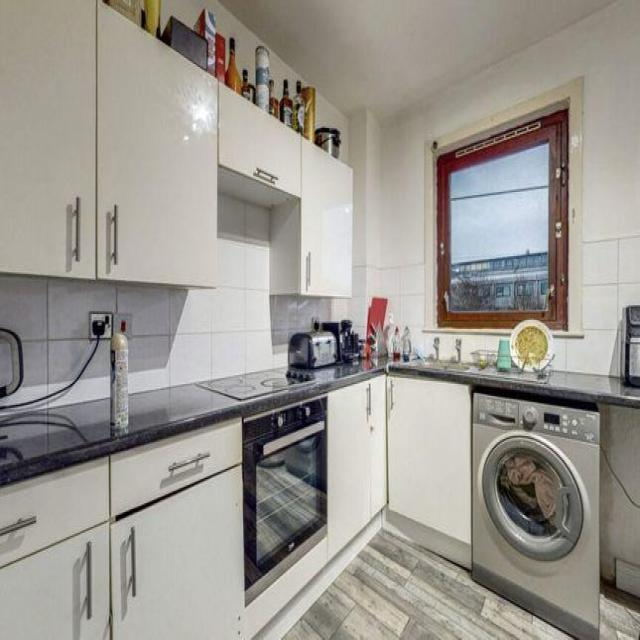Wall: (316, 0, 640, 374), (0, 195, 360, 402), (0, 203, 334, 402), (221, 1, 611, 118), (286, 529, 569, 638), (163, 0, 261, 76), (56, 341, 110, 404), (601, 587, 639, 639), (270, 51, 299, 93), (0, 336, 18, 385)
